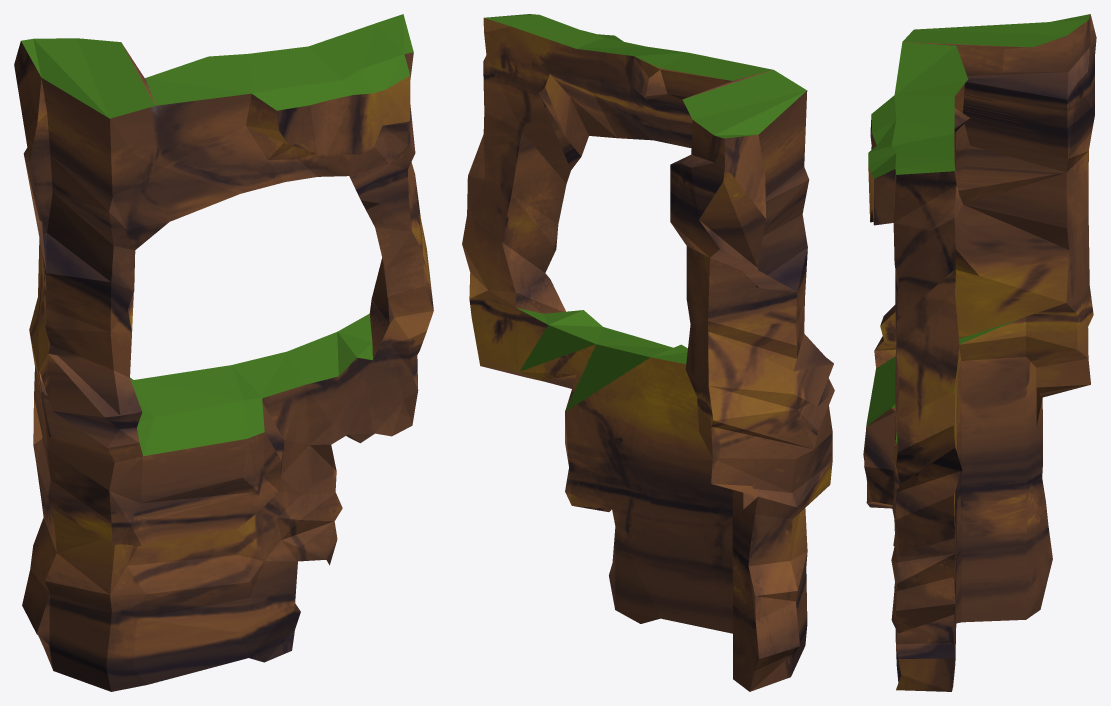
File: sali8dos.obj
3 views of the same model, side by side, from view 1: azimuth 30°, elevation 25°; view 2: azimuth 150°, elevation 25°; view 3: azimuth 270°, elevation 25° (orthographic). The views are drawn at different scales.
Visible parts, largest first — view 1: Plane.042_Plane.046; view 2: Plane.042_Plane.046; view 3: Plane.042_Plane.046.
Part boxes in pixels (x1=…): Plane.042_Plane.046: x1=14, y1=14, x2=433, y2=691; Plane.042_Plane.046: x1=462, y1=14, x2=834, y2=691; Plane.042_Plane.046: x1=863, y1=14, x2=1096, y2=691.
Size of the model in its own units: 198 by 301 by 106.
Materials: 1 (1 with a texture image).
